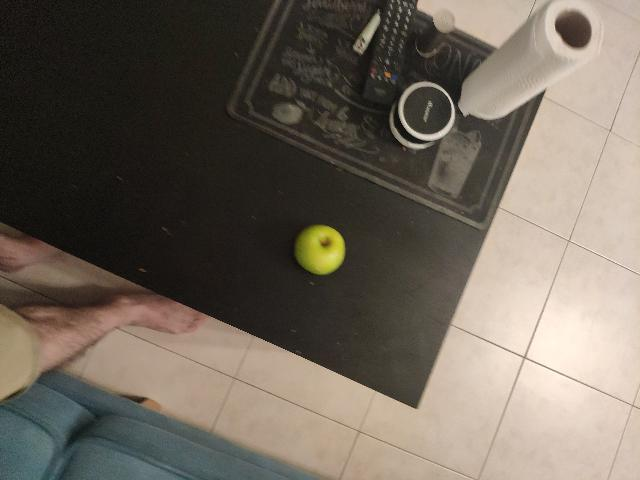apple: (375, 289, 439, 367)
